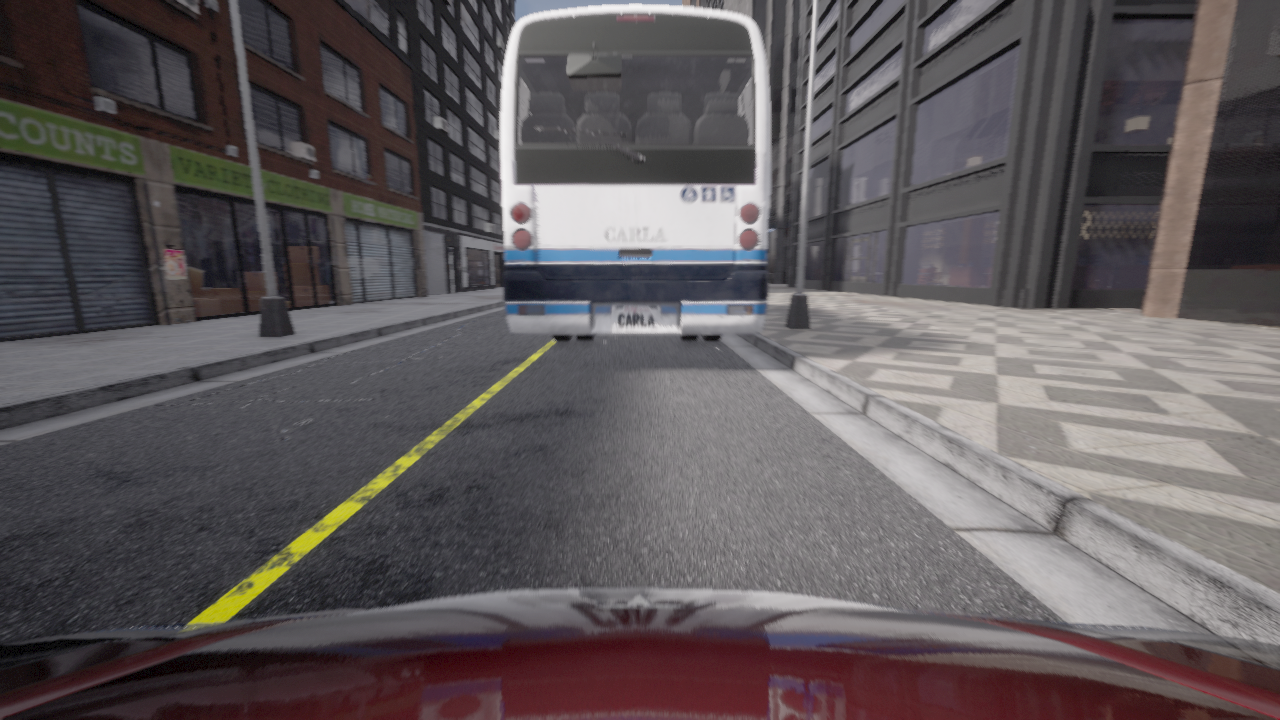cyclist: (0, 588, 1279, 719), (501, 5, 769, 341)
